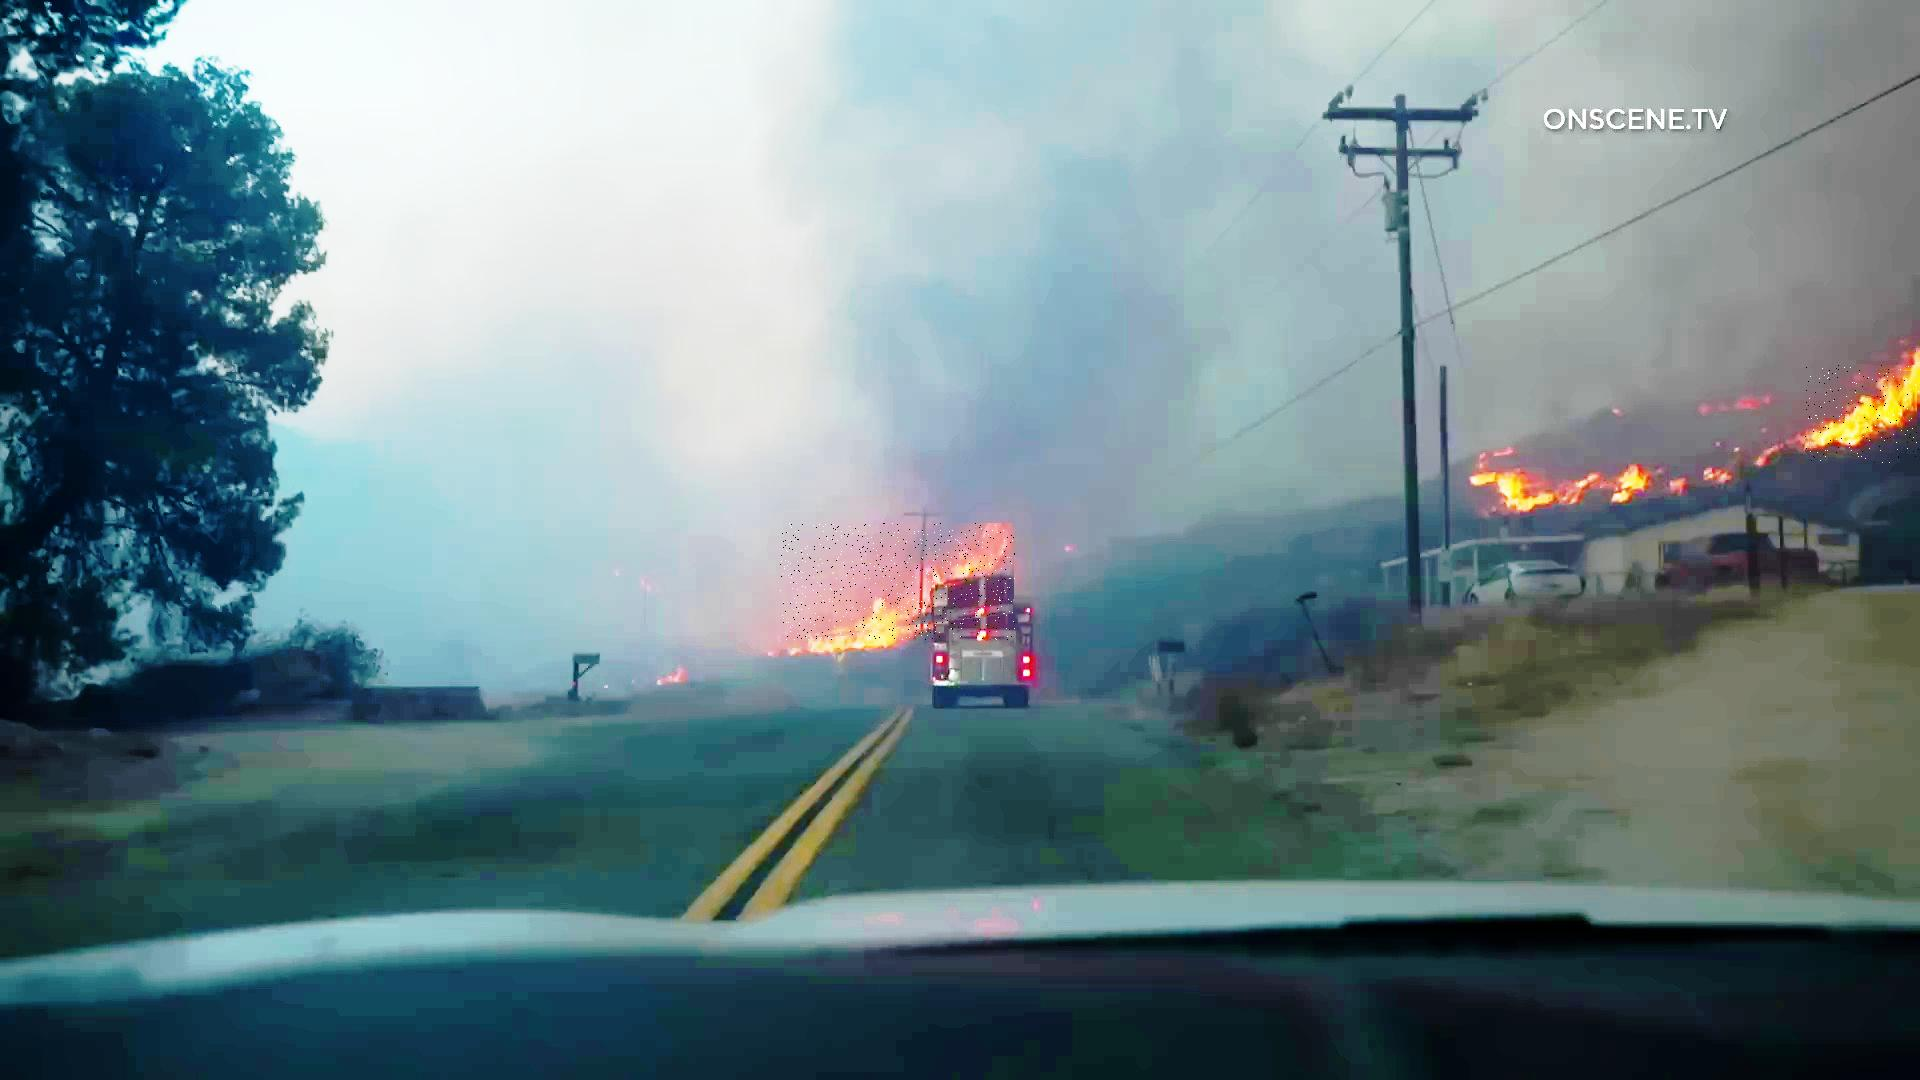fire: (781, 524, 1015, 641), (1805, 365, 1920, 463)
